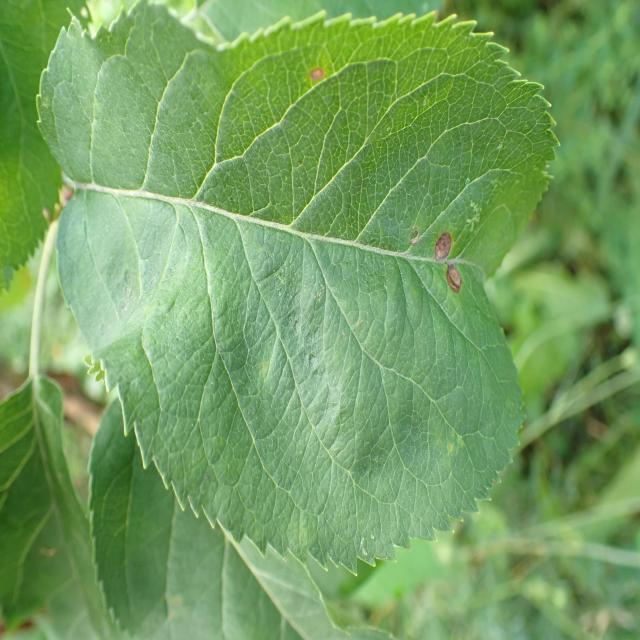Black Rot: (406, 194, 482, 337), (293, 46, 345, 112)
